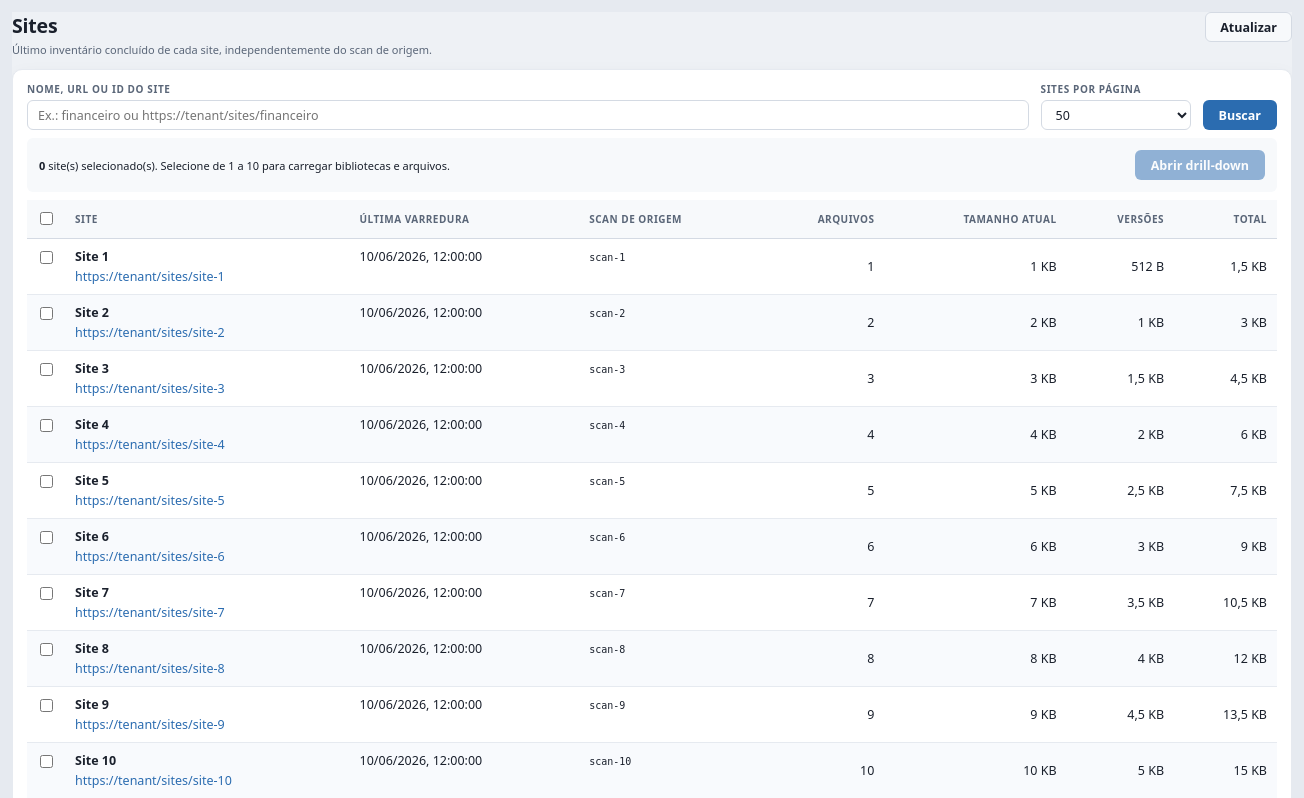
Test: SitesPage › desabilita drill-down acima de 10 sites selecionados
The width and height of the screenshot is (1304, 798).
What coordinates should you click on to do the following:
click the checkbox named "Selecionar sites da página"
I would click on:
 (46, 218)
Its box is 40,212 -> 53,225.
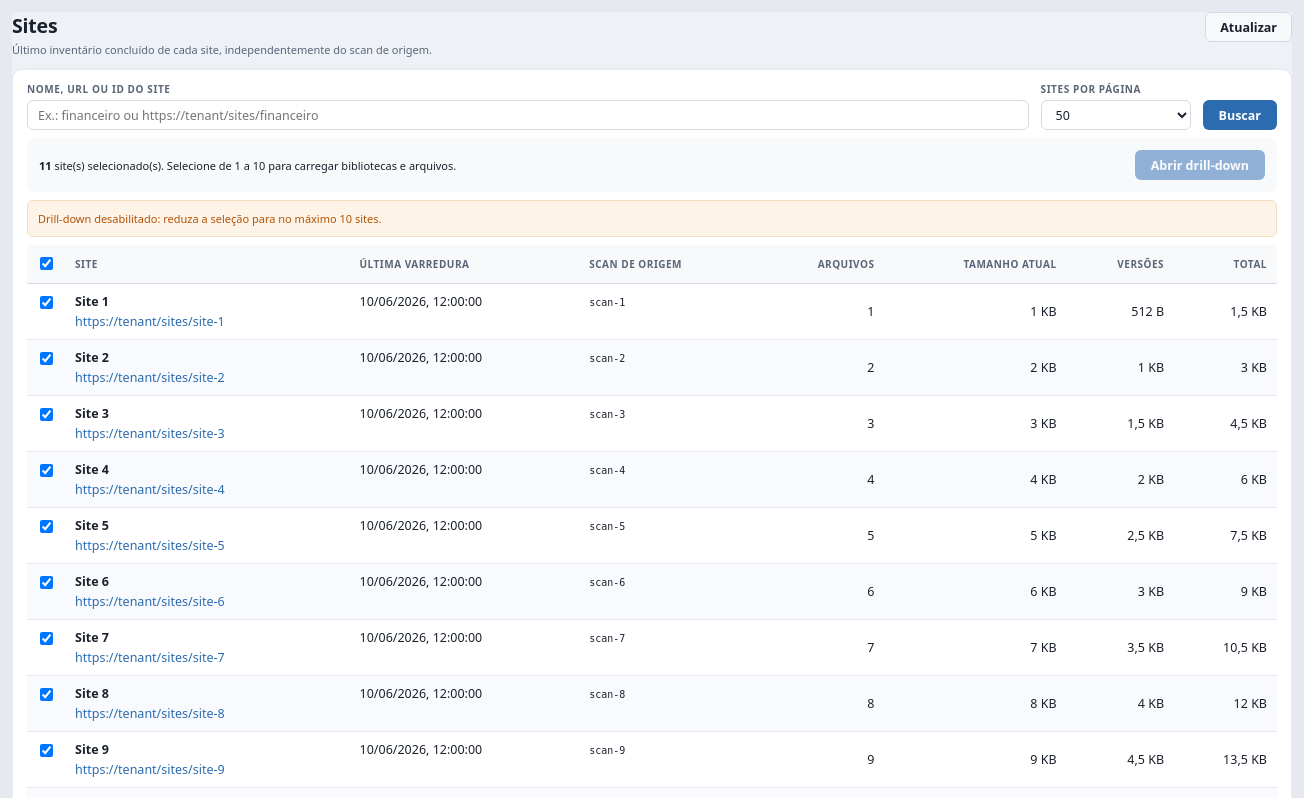
Expected: the button "Abrir drill-down" is disabled, 1135,150 -> 1265,180
Now the message shows "no máximo 10 sites", box 38,211 -> 382,226
